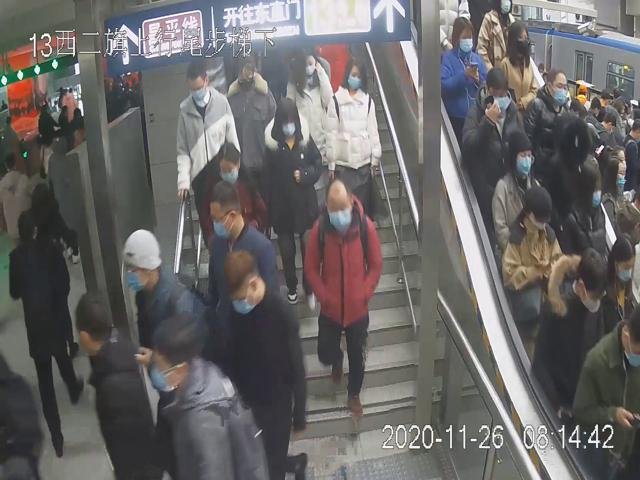person: (200, 249, 308, 480), (302, 180, 385, 416), (120, 228, 216, 423), (260, 97, 324, 317), (176, 61, 242, 247), (203, 182, 282, 324), (324, 53, 382, 229), (222, 55, 278, 220), (285, 42, 337, 211), (458, 65, 524, 190), (492, 131, 548, 256), (440, 16, 487, 145), (207, 142, 266, 236)
